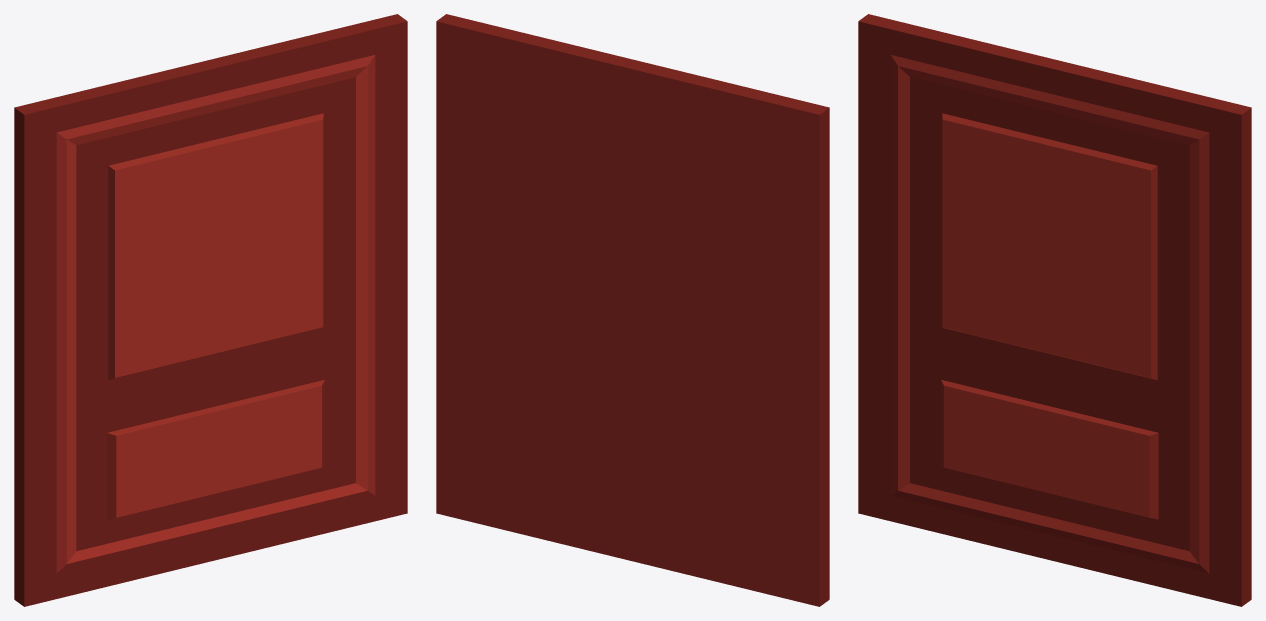
File: door 1.fbx
3 renders of one model, left to right at view 1: azimuth 30°, elevation 25°; view 2: azimuth 150°, elevation 25°; view 3: azimuth 330°, elevation 25°, orthographic.
Visible parts, largest first — view 1: Cube.004; view 2: Cube.004; view 3: Cube.004.
Boxes of the visible parts, x1,y1,x2,y2 form: Cube.004: [14, 14, 407, 606]; Cube.004: [436, 14, 829, 606]; Cube.004: [858, 14, 1251, 606].
Size of the model in its own units: 1516 by 1859 by 89.78.
1 material, 1 textured.
